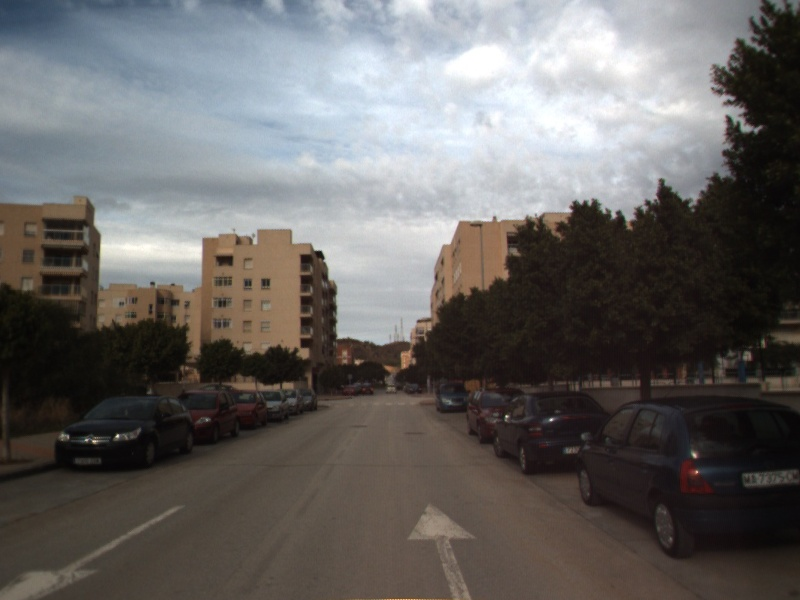STRAIGHT: (405, 500, 480, 600)
